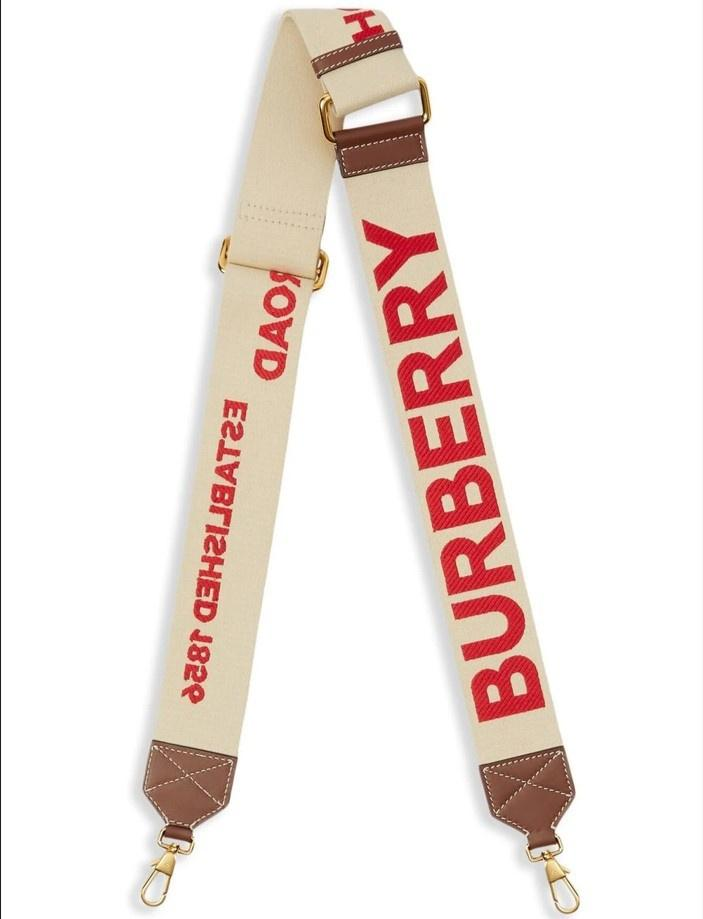BURBERRY: (362, 218, 546, 722)
